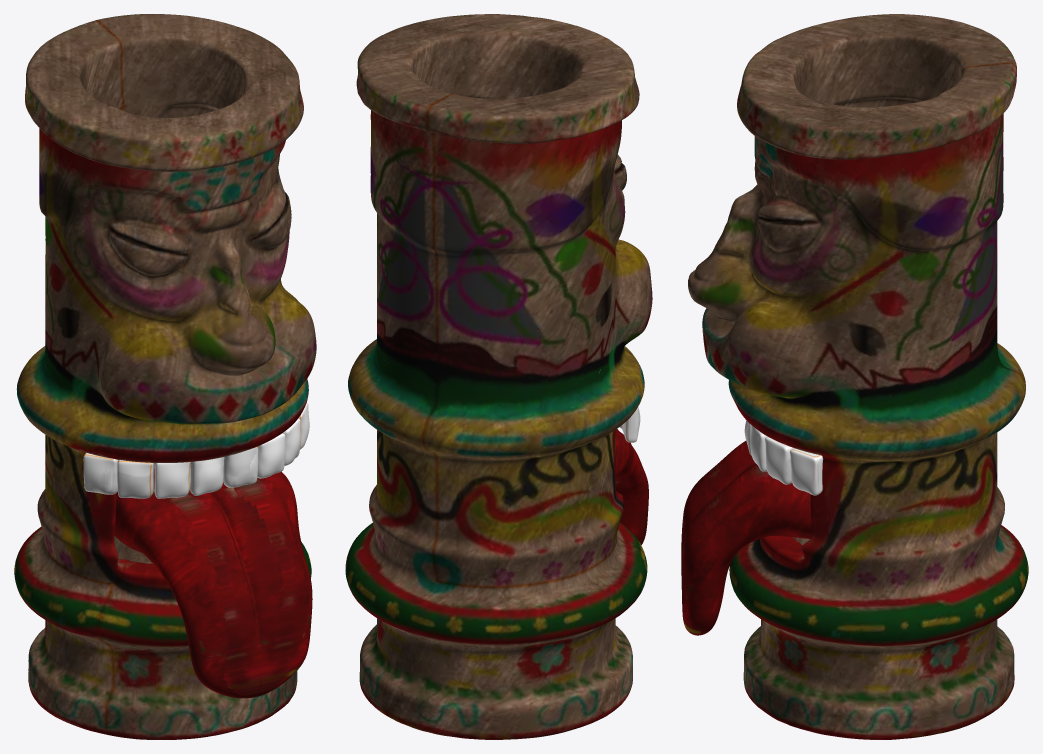
Rendered from tikiTotem-transformed.glb.
3 renders of one model, left to right at view 1: azimuth 30°, elevation 25°; view 2: azimuth 150°, elevation 25°; view 3: azimuth 270°, elevation 25°, orthographic.
Visible parts, largest first — view 1: CL_UMesh_PM3D_Plane3D7_SeamsColor; view 2: CL_UMesh_PM3D_Plane3D7_SeamsColor; view 3: CL_UMesh_PM3D_Plane3D7_SeamsColor.
Boxes of the visible parts, x1,y1,x2,y2 form: CL_UMesh_PM3D_Plane3D7_SeamsColor: (14,14,316,739); CL_UMesh_PM3D_Plane3D7_SeamsColor: (345,14,652,739); CL_UMesh_PM3D_Plane3D7_SeamsColor: (681,14,1028,739).
Bounding box in the file's own units: 2.31 × 5.34 × 2.68.
1 material, 1 textured.
